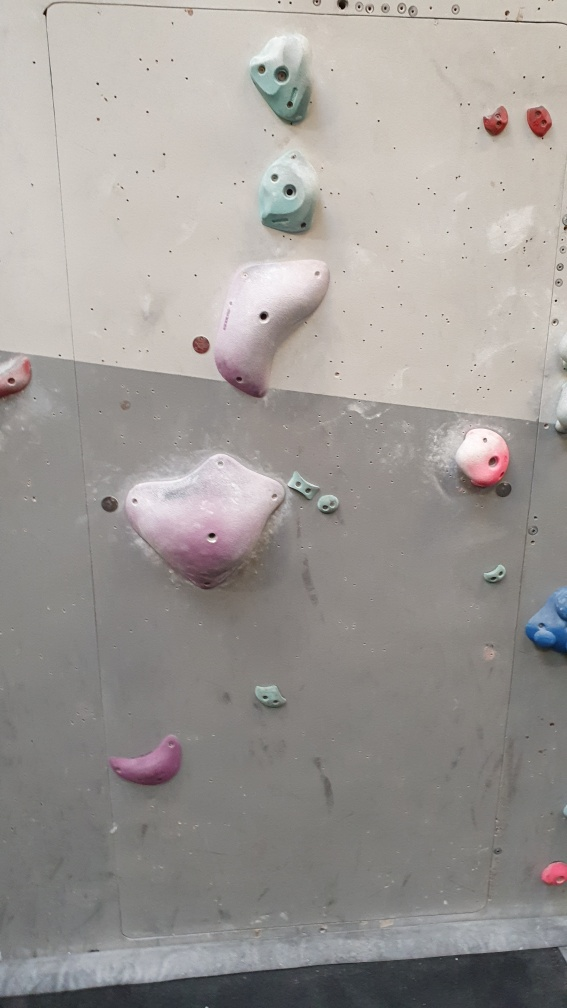Hand Start: (184, 331, 216, 357), (96, 493, 119, 517), (492, 481, 513, 503)
Jug: (247, 30, 318, 132), (254, 145, 317, 243)
Pinch: (285, 470, 324, 503), (479, 562, 513, 590)
Sloper: (522, 575, 567, 657)
